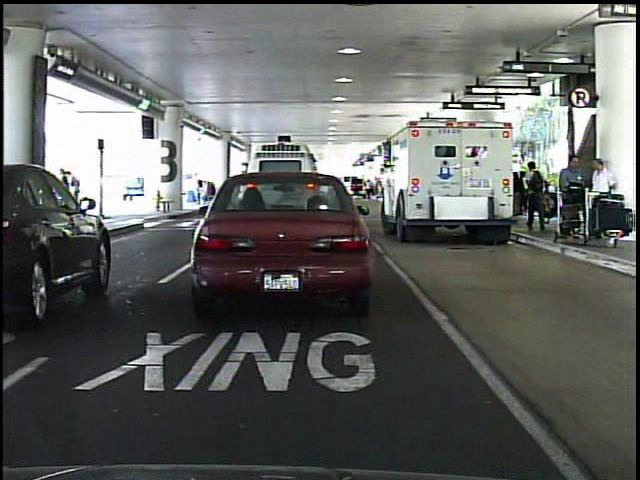person: (61, 167, 83, 225)
